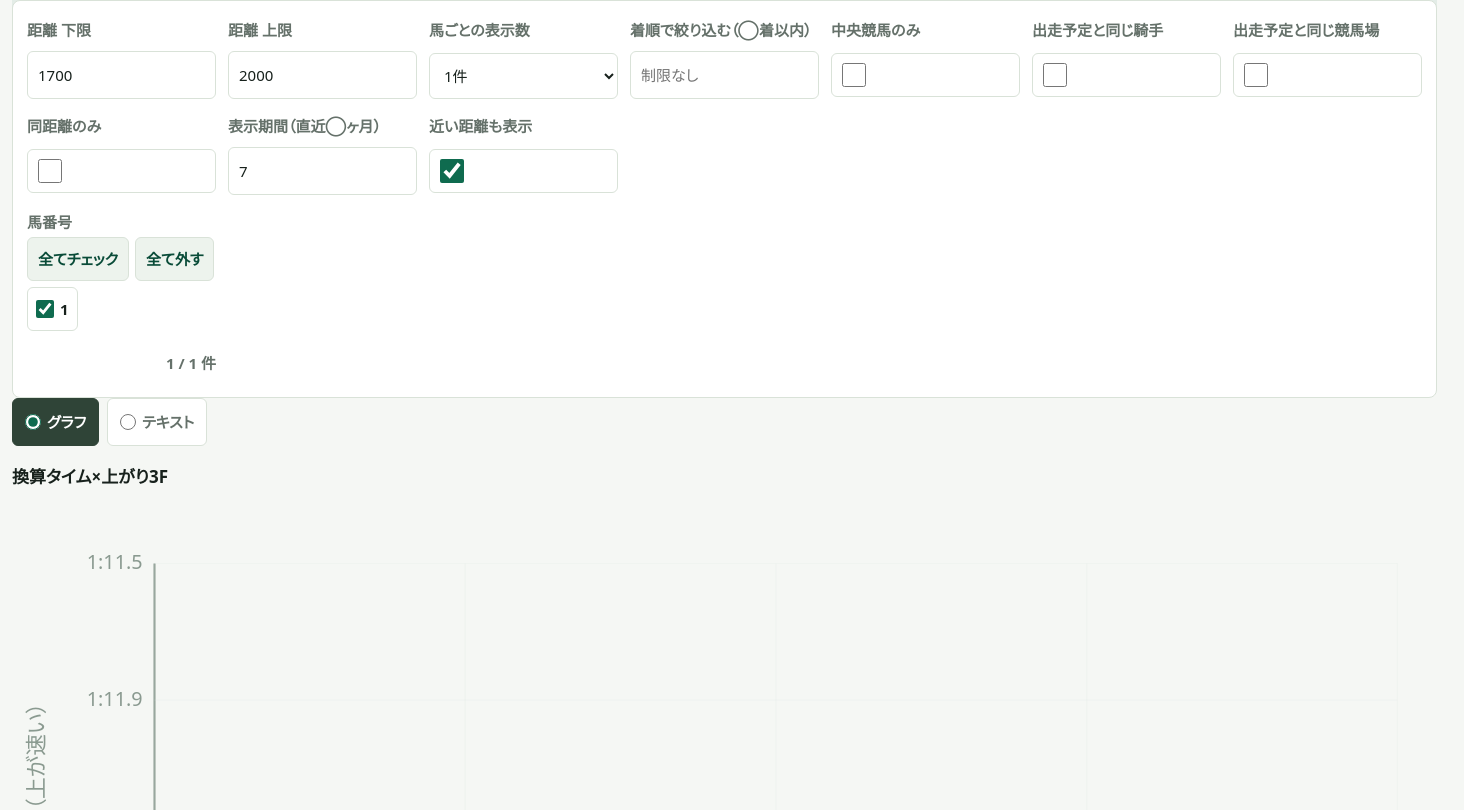
Test: horse race results table › keeps a manually entered finish rank limit even when it filters out rows
Step 1. Click the radio button labelled "テキスト" → (128, 422), box [120,414,136,430]
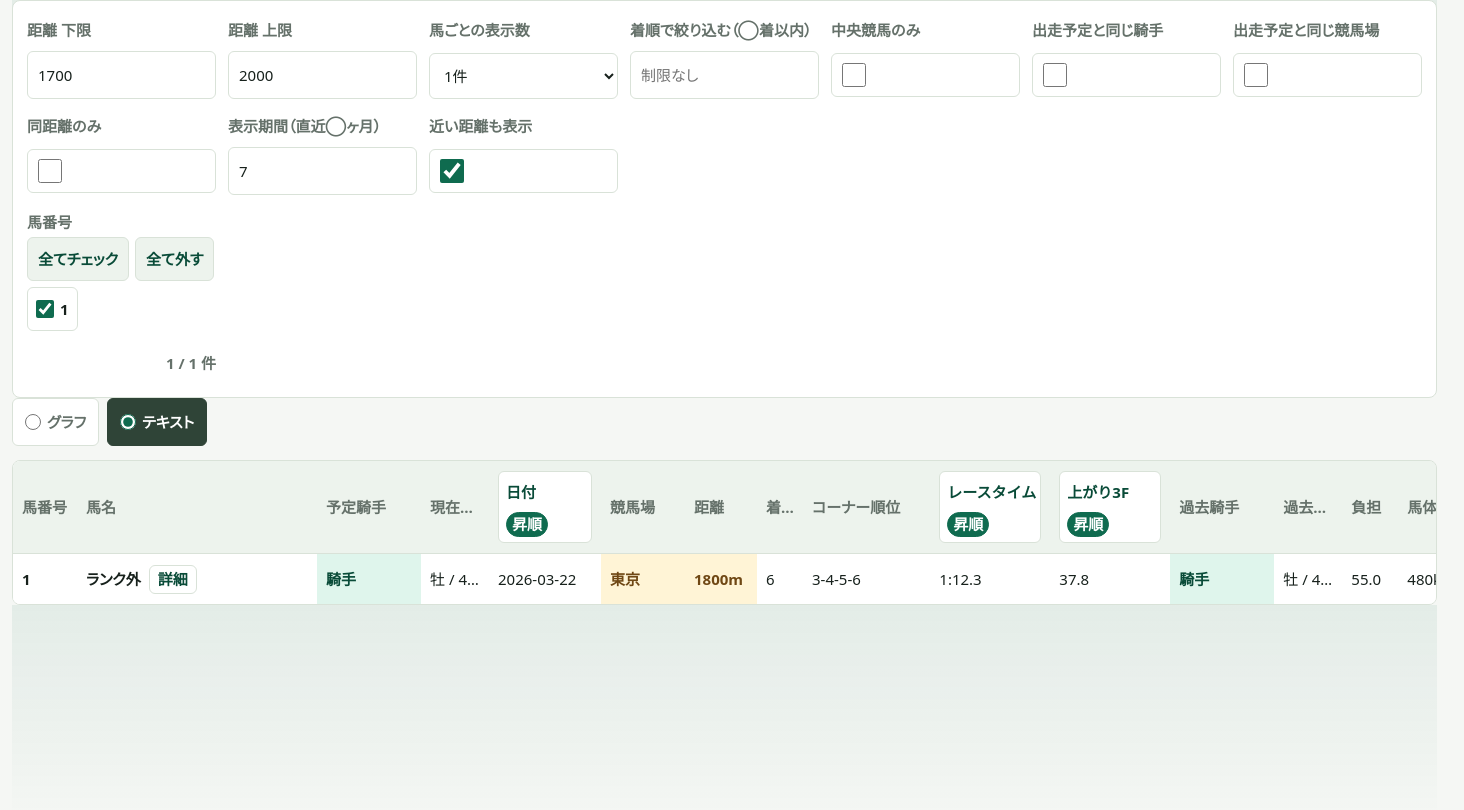
Expected: the text "ランク外" is shown, [86,564,141,594]
Step 2. Type "2" into the number field labelled "着順で絞り込む（◯着以内）" → (724, 75), box [630,51,819,99]
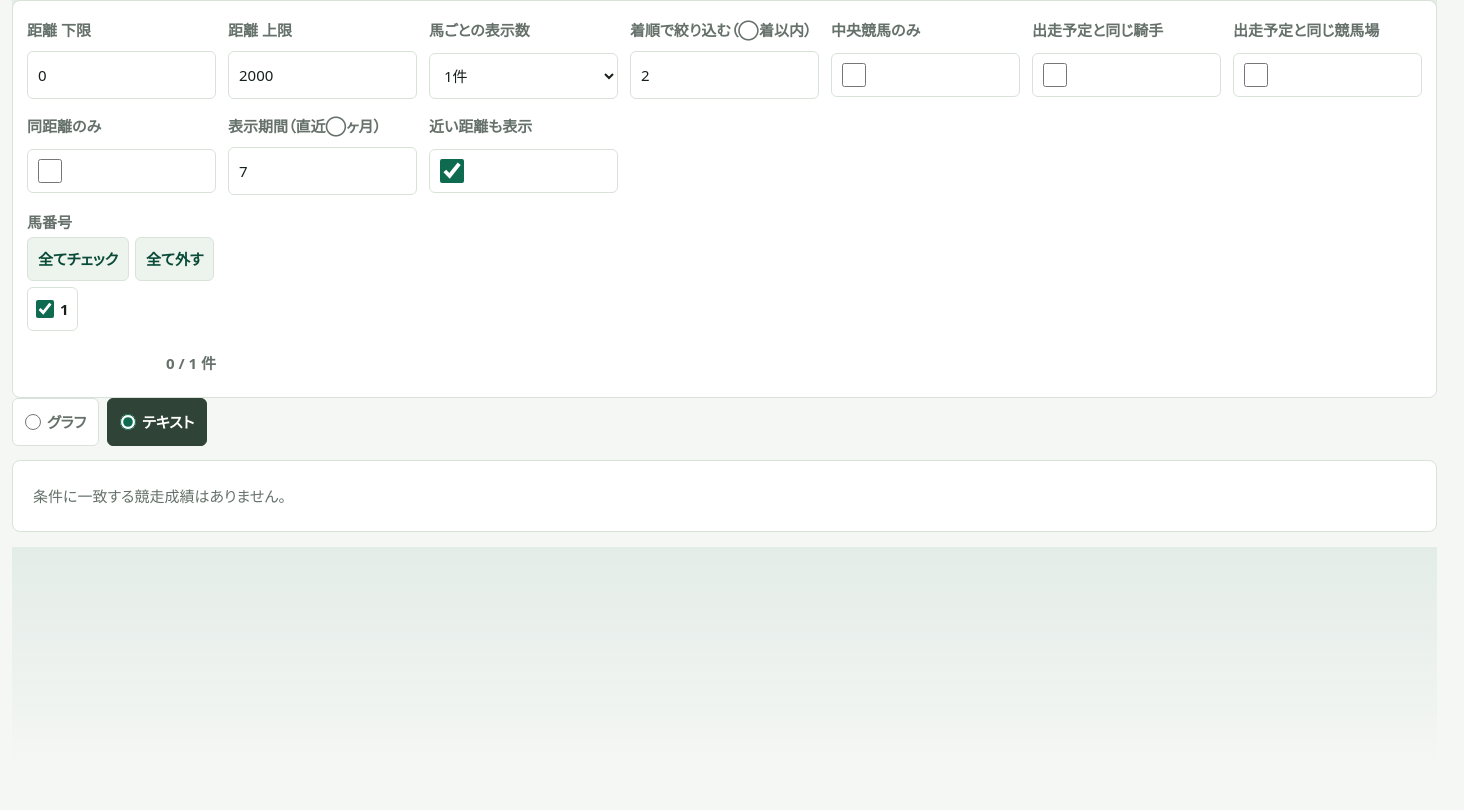
Expected: the text "ランク外" is gone
